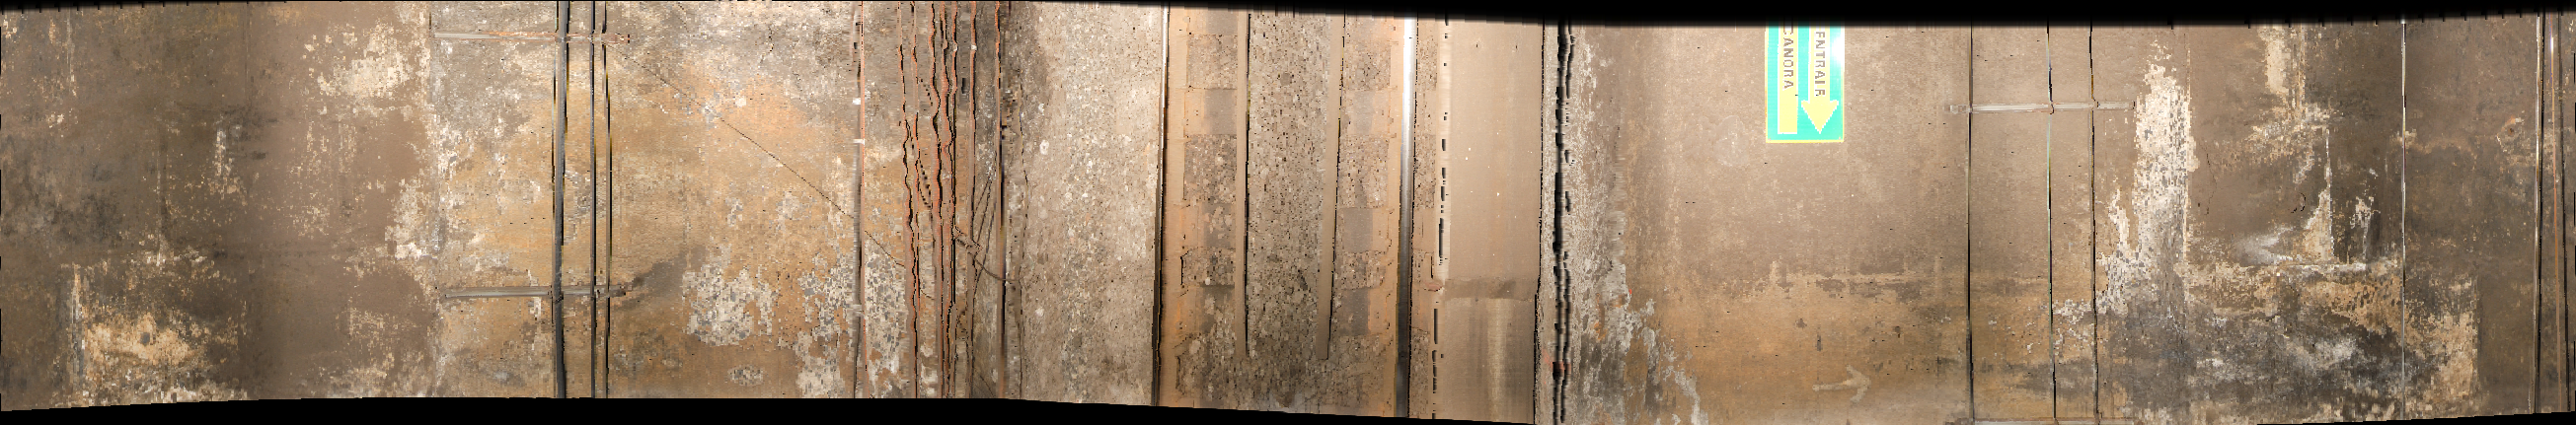pipes: (2530, 18, 2569, 425), (2392, 21, 2423, 425), (591, 3, 616, 425), (547, 3, 572, 423), (2042, 33, 2067, 425), (1963, 33, 1976, 425)
sign: (1763, 36, 1847, 148)
tracks: (1155, 7, 1574, 425)
